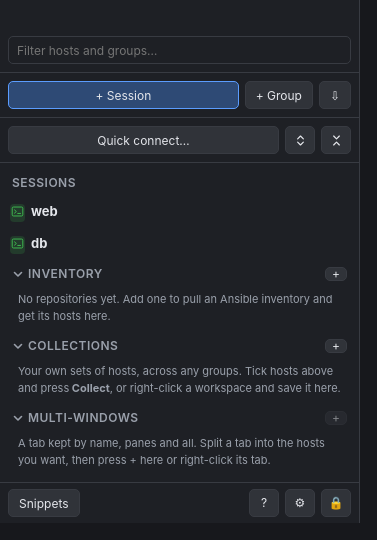
it: the host filter › offers a cross only while something is typed, and the cross empties it
Type "web" into the field with placeholder "Filter hosts and groups…".
click(180, 50); type("web")  # box top-left (8, 36), bottom-right (351, 64)
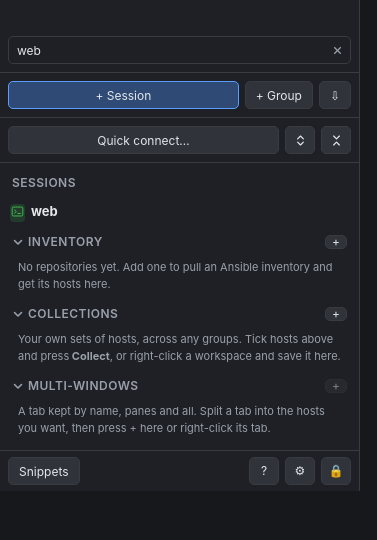
Check: the text "db" is gone
Click the button named "Clear filter".
click(337, 50)  # box top-left (326, 39), bottom-right (348, 61)
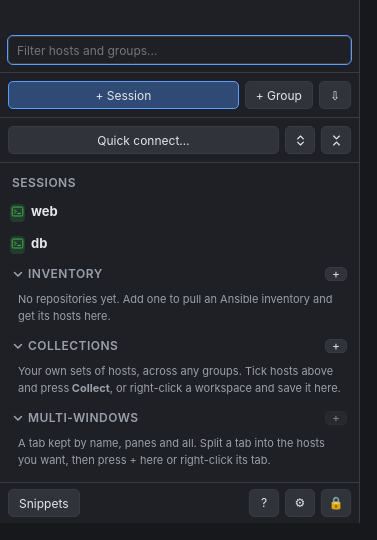
Check: the field with placeholder "Filter hosts and groups…" is empty, box top-left (8, 36), bottom-right (351, 64)
Check: the text "db" is shown, box top-left (10, 234), bottom-right (47, 254)
